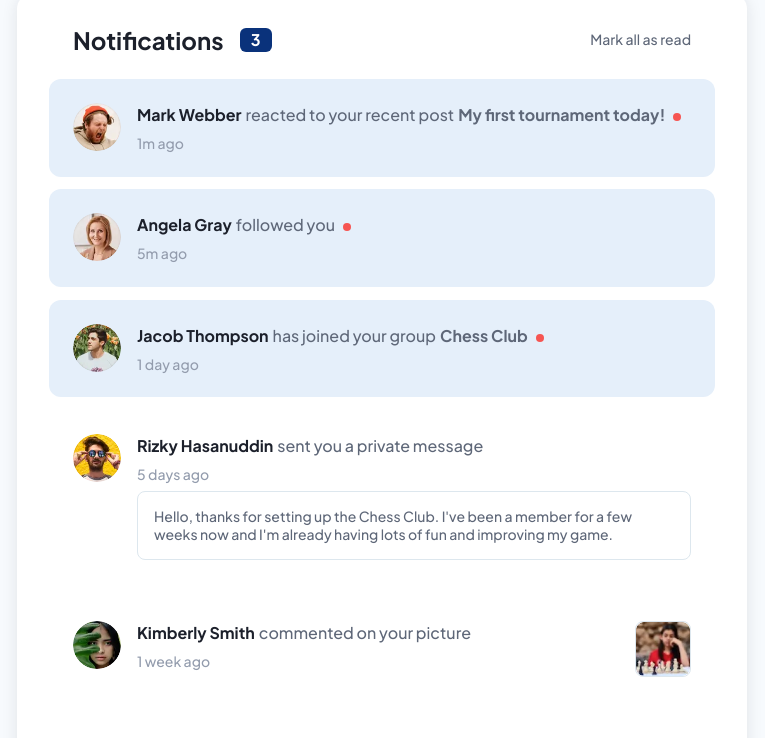
Scenario: App integration › marks all notifications as read after clicking the button
What coordinates should you click on to do the following:
click the button "Mark all as read"
I would click on:
 (641, 40)
Its box is x1=590 y1=31 x2=691 y2=49.
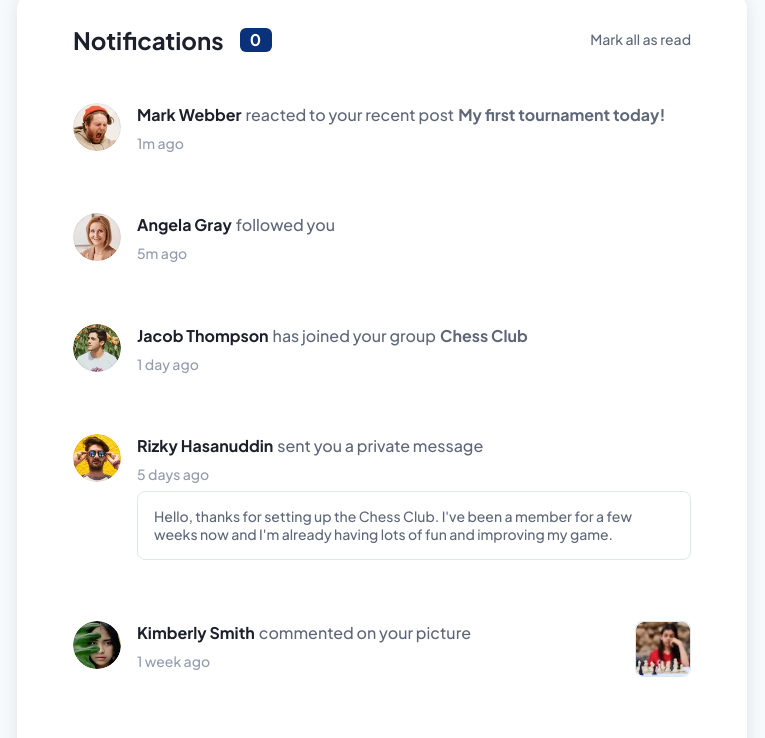
Check: no messages "unread" are shown
